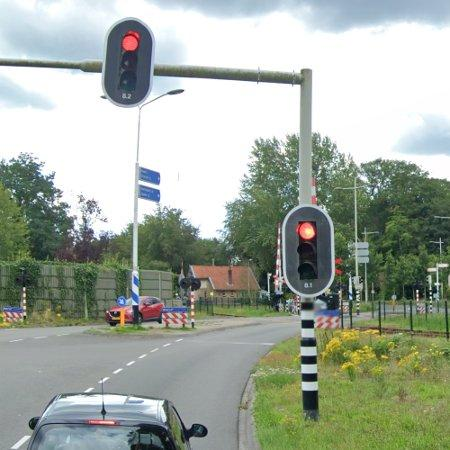traffic lights: (283, 206, 335, 298)
